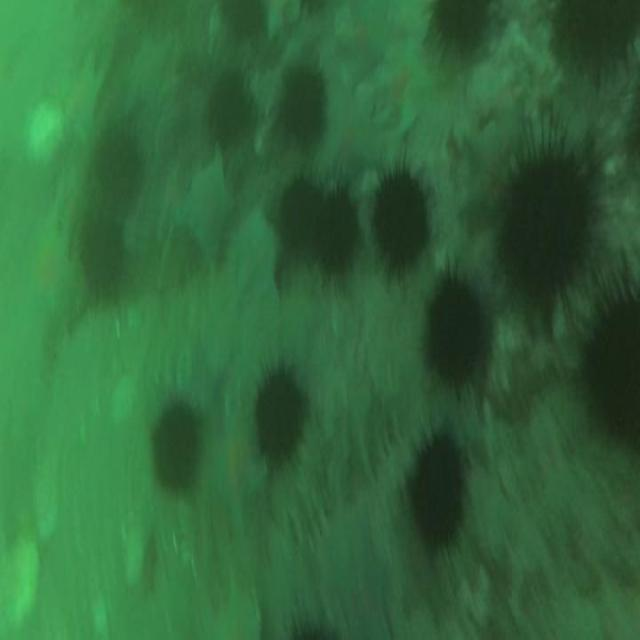echinus: (502, 154, 590, 296), (589, 296, 640, 450), (427, 274, 482, 386), (411, 432, 465, 544), (373, 174, 428, 272), (558, 0, 639, 60), (255, 372, 302, 464), (150, 403, 198, 490), (316, 190, 360, 275), (78, 216, 122, 292), (282, 71, 326, 144), (207, 76, 252, 147), (94, 133, 140, 202), (279, 177, 320, 247), (433, 0, 485, 47)
holothurian: (276, 381, 404, 539)
scallop: (28, 98, 72, 164)
starfish: (373, 41, 433, 125), (339, 6, 383, 86)
